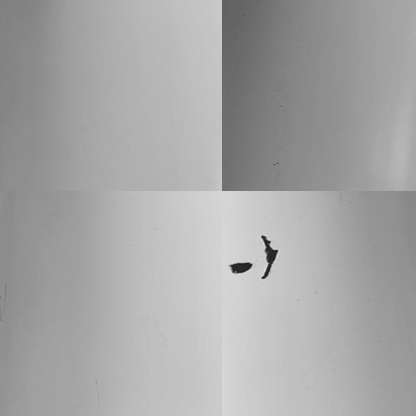kongdong: (261, 236, 282, 282), (228, 258, 250, 277)
